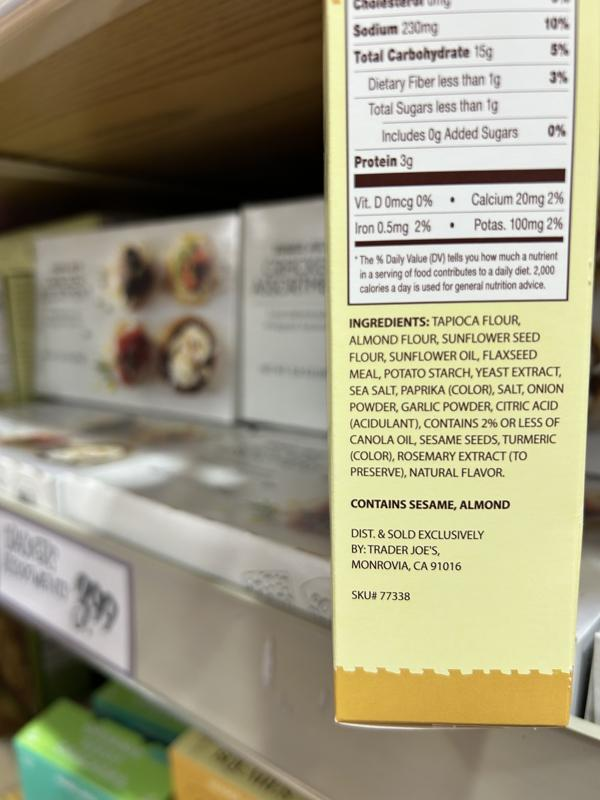ingredients: (345, 313, 565, 480)
